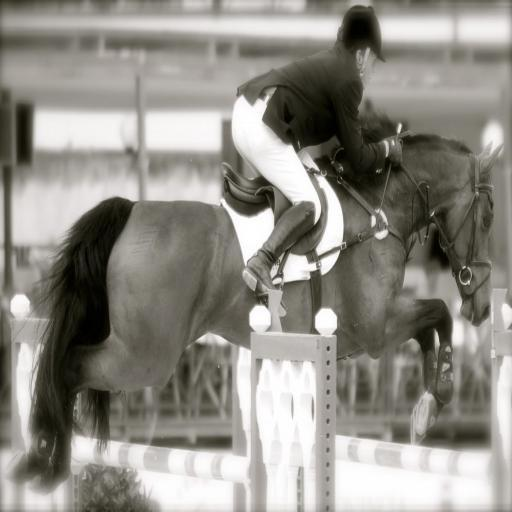Horse: (2, 143, 506, 495)
